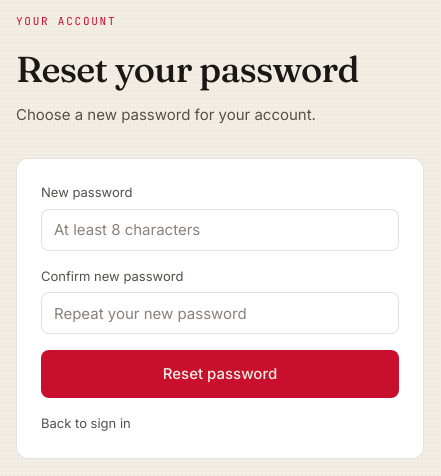
Test: ResetPasswordPage › shows a distinct message for an already-used token
This screenshot has width=441, height=476.
Type "password123" into the password field labelled "New password" at (220, 230), box [41,208,399,250]
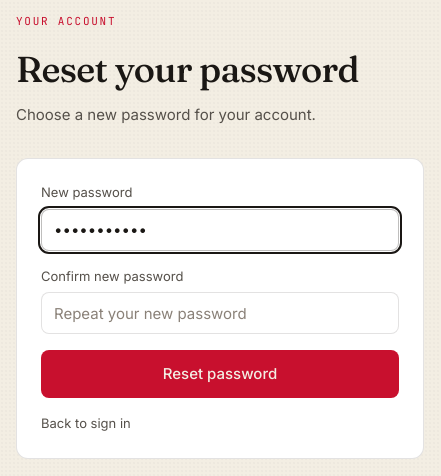
Type "password123" into the password field labelled "Confirm new password" at (220, 313), box [41,292,399,334]
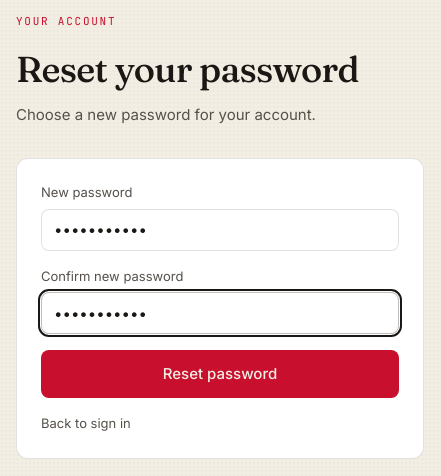
Click the button "Reset password" at (220, 374), box [41,350,399,398]
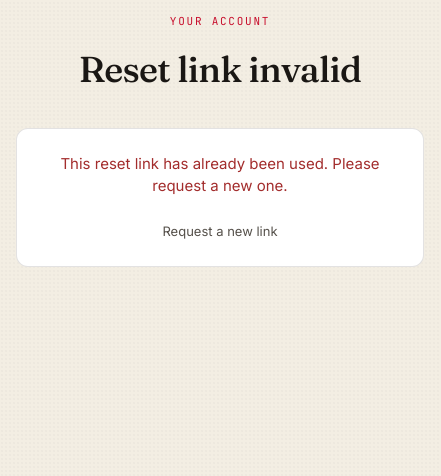
Now the message shows "already been used", box [60,154,380,195]
